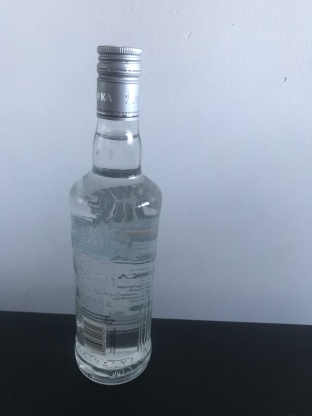nakretka: (94, 43, 142, 123)
